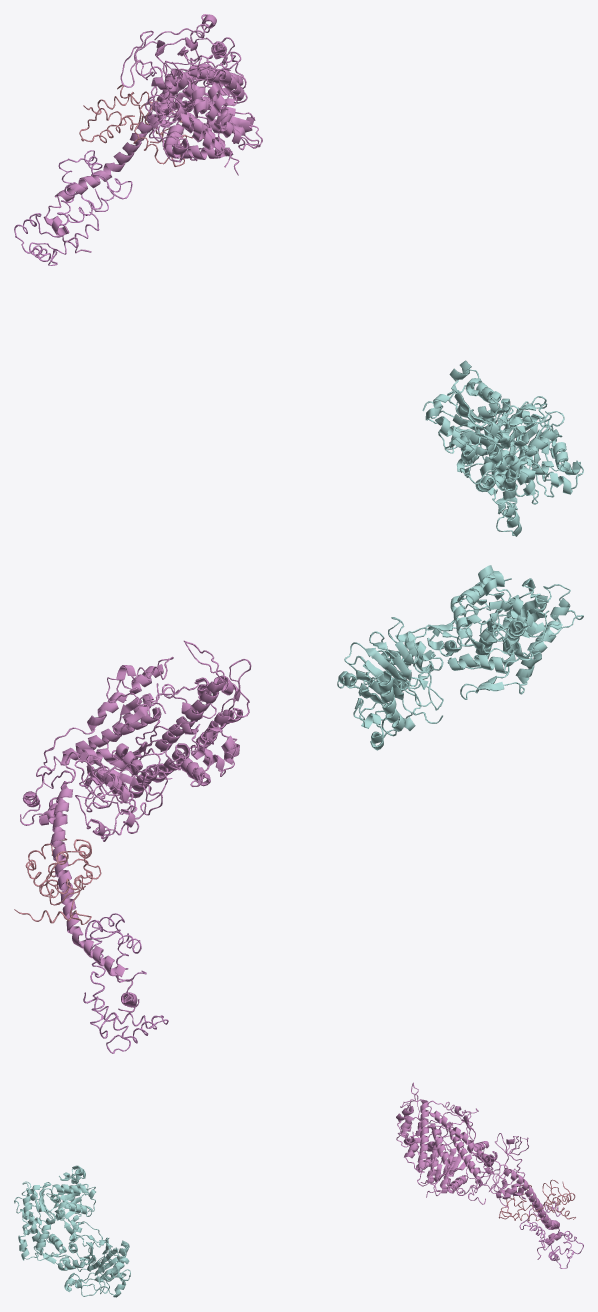
Rendered from actin-myosin-ribbon-lod1-draco.glb.
3 renders of one model, top to bottom at view 1: azimuth 30°, elevation 25°; view 2: azimuth 150°, elevation 25°; view 3: azimuth 270°, elevation 25°, orthographic. The views are drawn at different scales.
Visible parts, largest first — view 1: 2MYS, 1ATN; view 2: 2MYS, 1ATN; view 3: 2MYS, 1ATN.
Part boxes in pixels (x1,y1,x2,y2): 2MYS: (14, 14, 262, 265); 1ATN: (422, 360, 583, 536); 2MYS: (14, 640, 251, 1053); 1ATN: (337, 565, 583, 750); 2MYS: (396, 1082, 583, 1268); 1ATN: (14, 1165, 130, 1297).
Bounding box in the file's own units: 0.8489 × 1.28 × 3.57.
